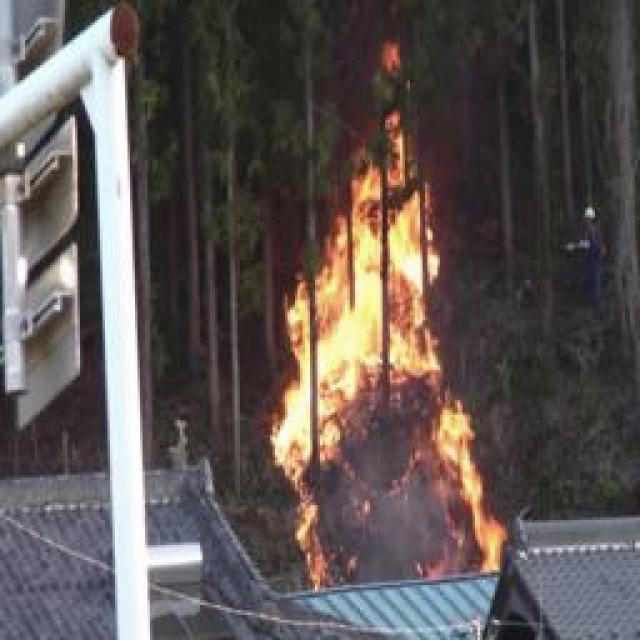Fire: (272, 155, 511, 578)
